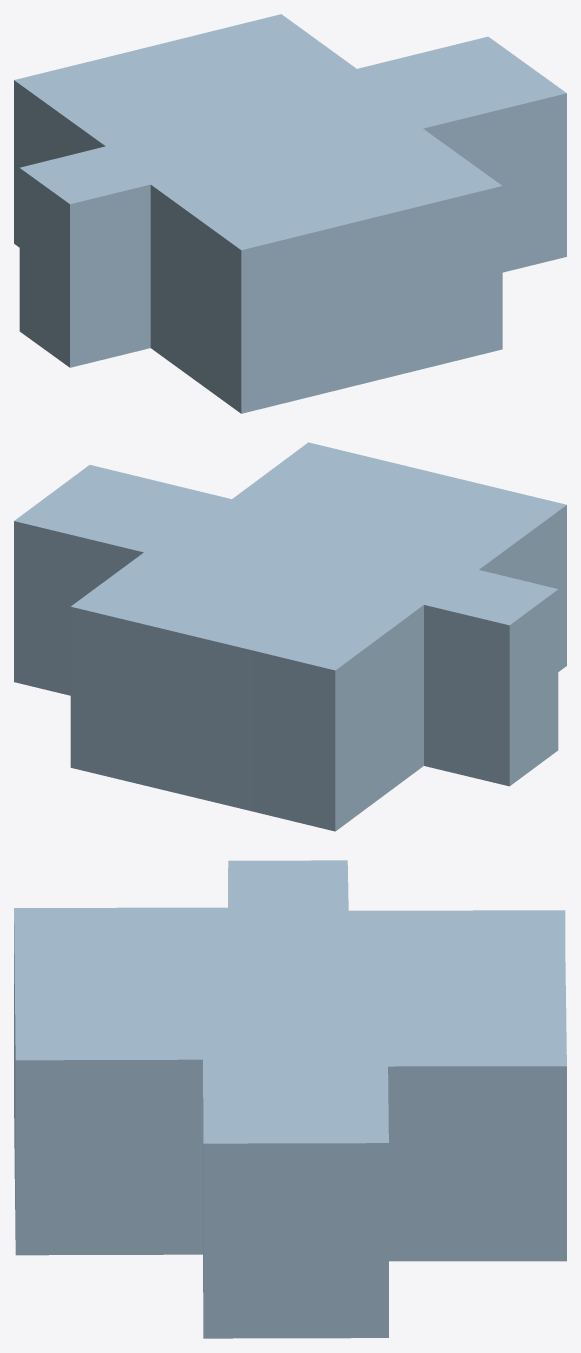
The model's file is osm_way_224938858.glb.
3 views of the same model, one above another, from view 1: azimuth 30°, elevation 25°; view 2: azimuth 150°, elevation 25°; view 3: azimuth 270°, elevation 25° (orthographic). The views are drawn at different scales.
Parts seen in each view (by area): view 1: osm_way_224938858; view 2: osm_way_224938858; view 3: osm_way_224938858.
Boxes of the visible parts, bbox=[...] form: osm_way_224938858: bbox=[14, 14, 566, 413]; osm_way_224938858: bbox=[14, 442, 566, 831]; osm_way_224938858: bbox=[14, 860, 566, 1338].
Size of the model in its own units: 12.46 by 4 by 10.28.
